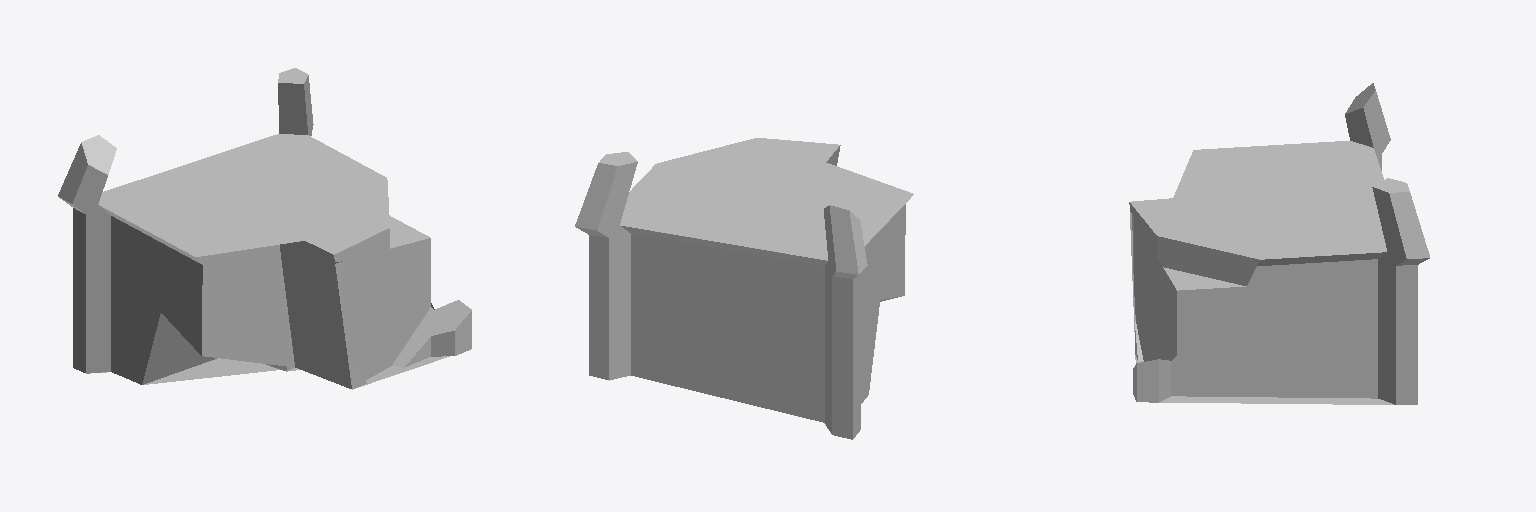
The model's file is Debris25.obj.
3 renders of one model, left to right at view 1: azimuth 30°, elevation 25°; view 2: azimuth 150°, elevation 25°; view 3: azimuth 270°, elevation 25°, orthographic.
Visible parts, largest first — view 1: Debris25; view 2: Debris25; view 3: Debris25.
Part boxes in pixels (bbox=[...]): Debris25: bbox=[58, 68, 471, 389]; Debris25: bbox=[575, 138, 913, 439]; Debris25: bbox=[1129, 83, 1429, 404].
Bounding box in the file's own units: 4.76 × 3.63 × 4.29.